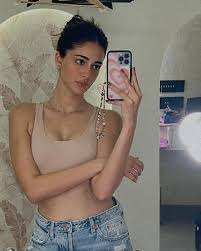Human_Female: (20, 32, 128, 251)
